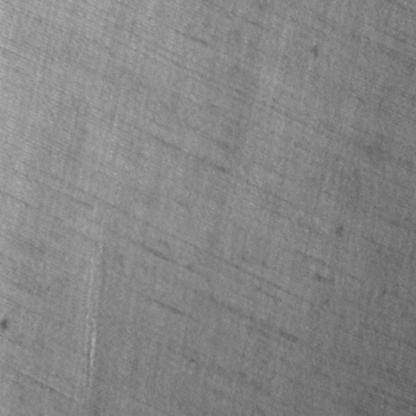thread error: (79, 195, 105, 387)
